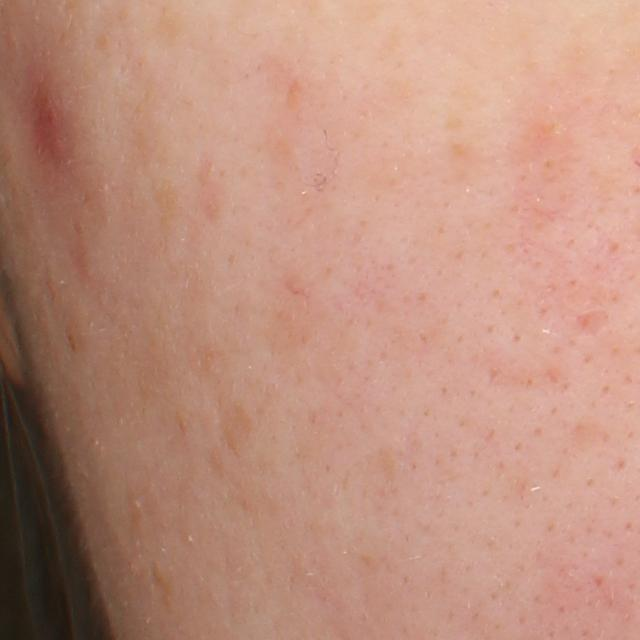atrophic_scar: (571, 307, 613, 341)
